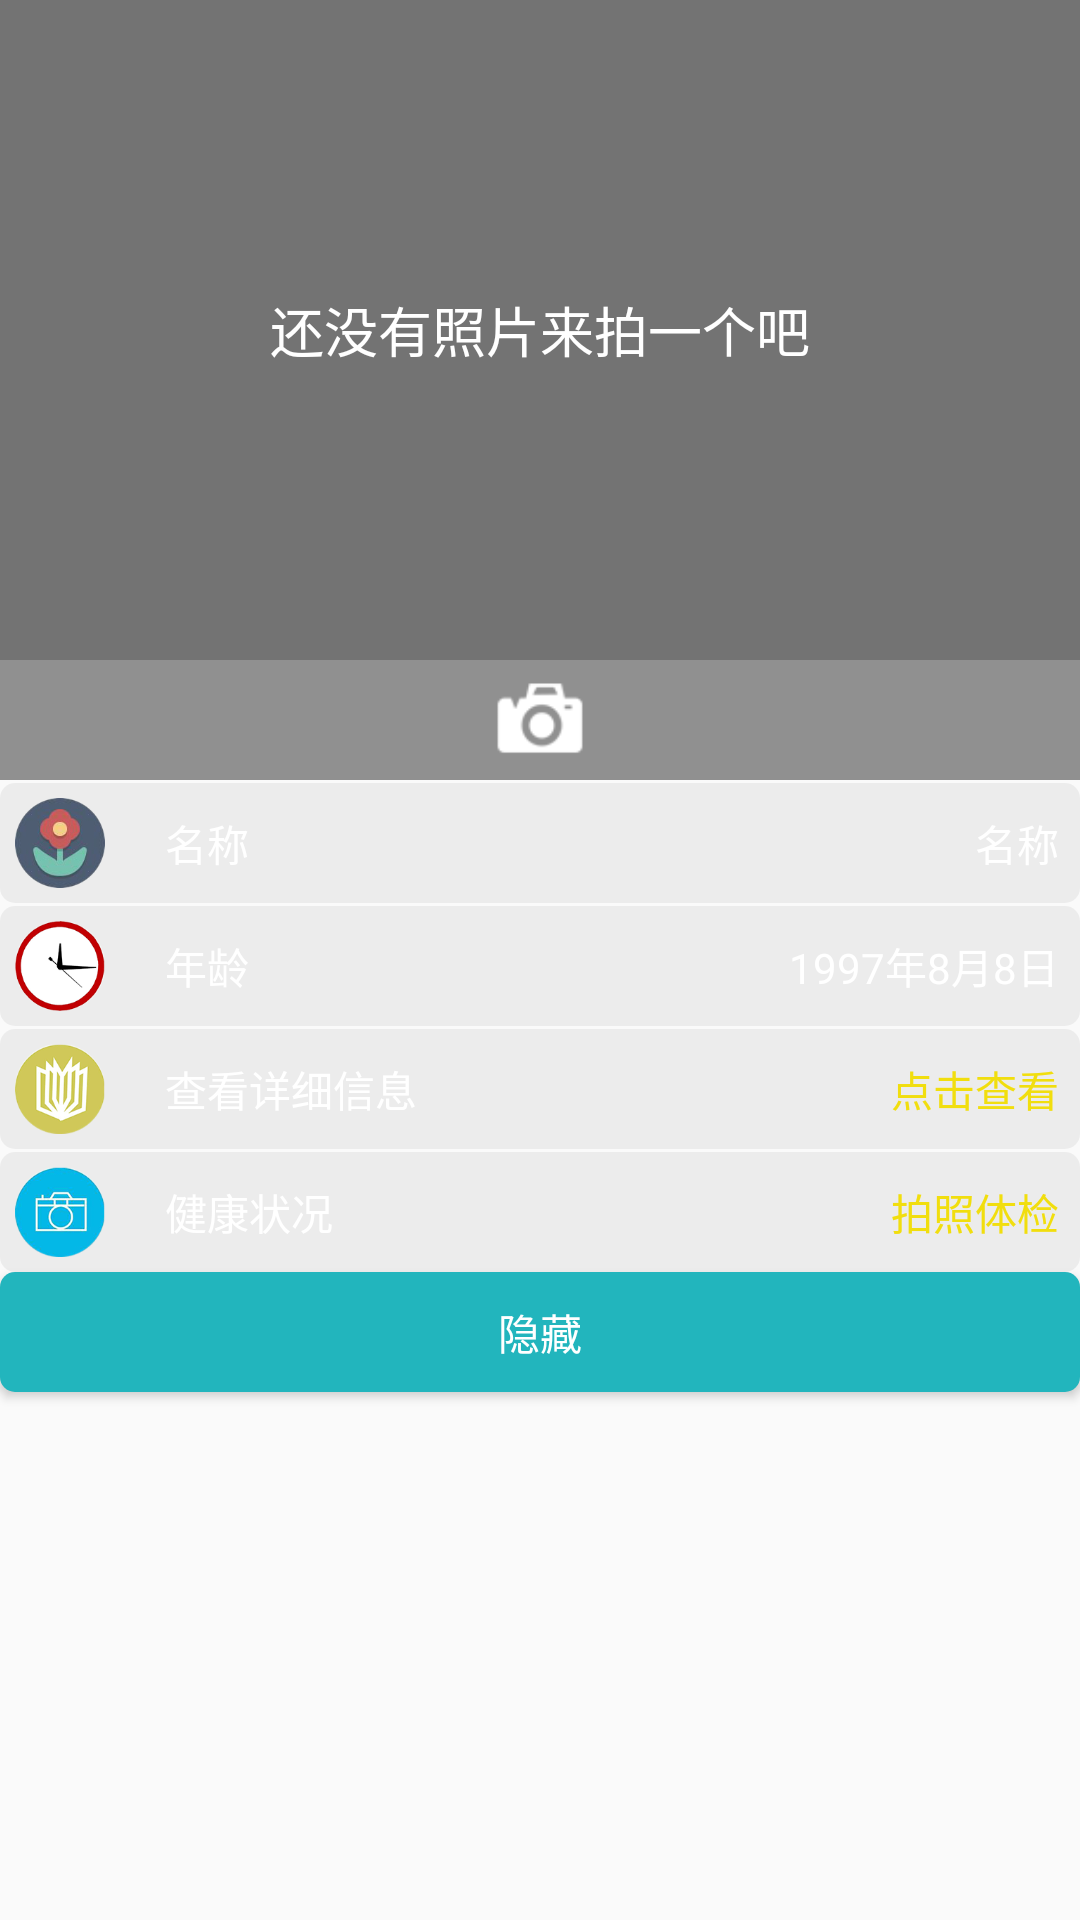

Icon click points for this 1080 x 1920 phone screenshot, format [x,y]:
hua: [60,843]
